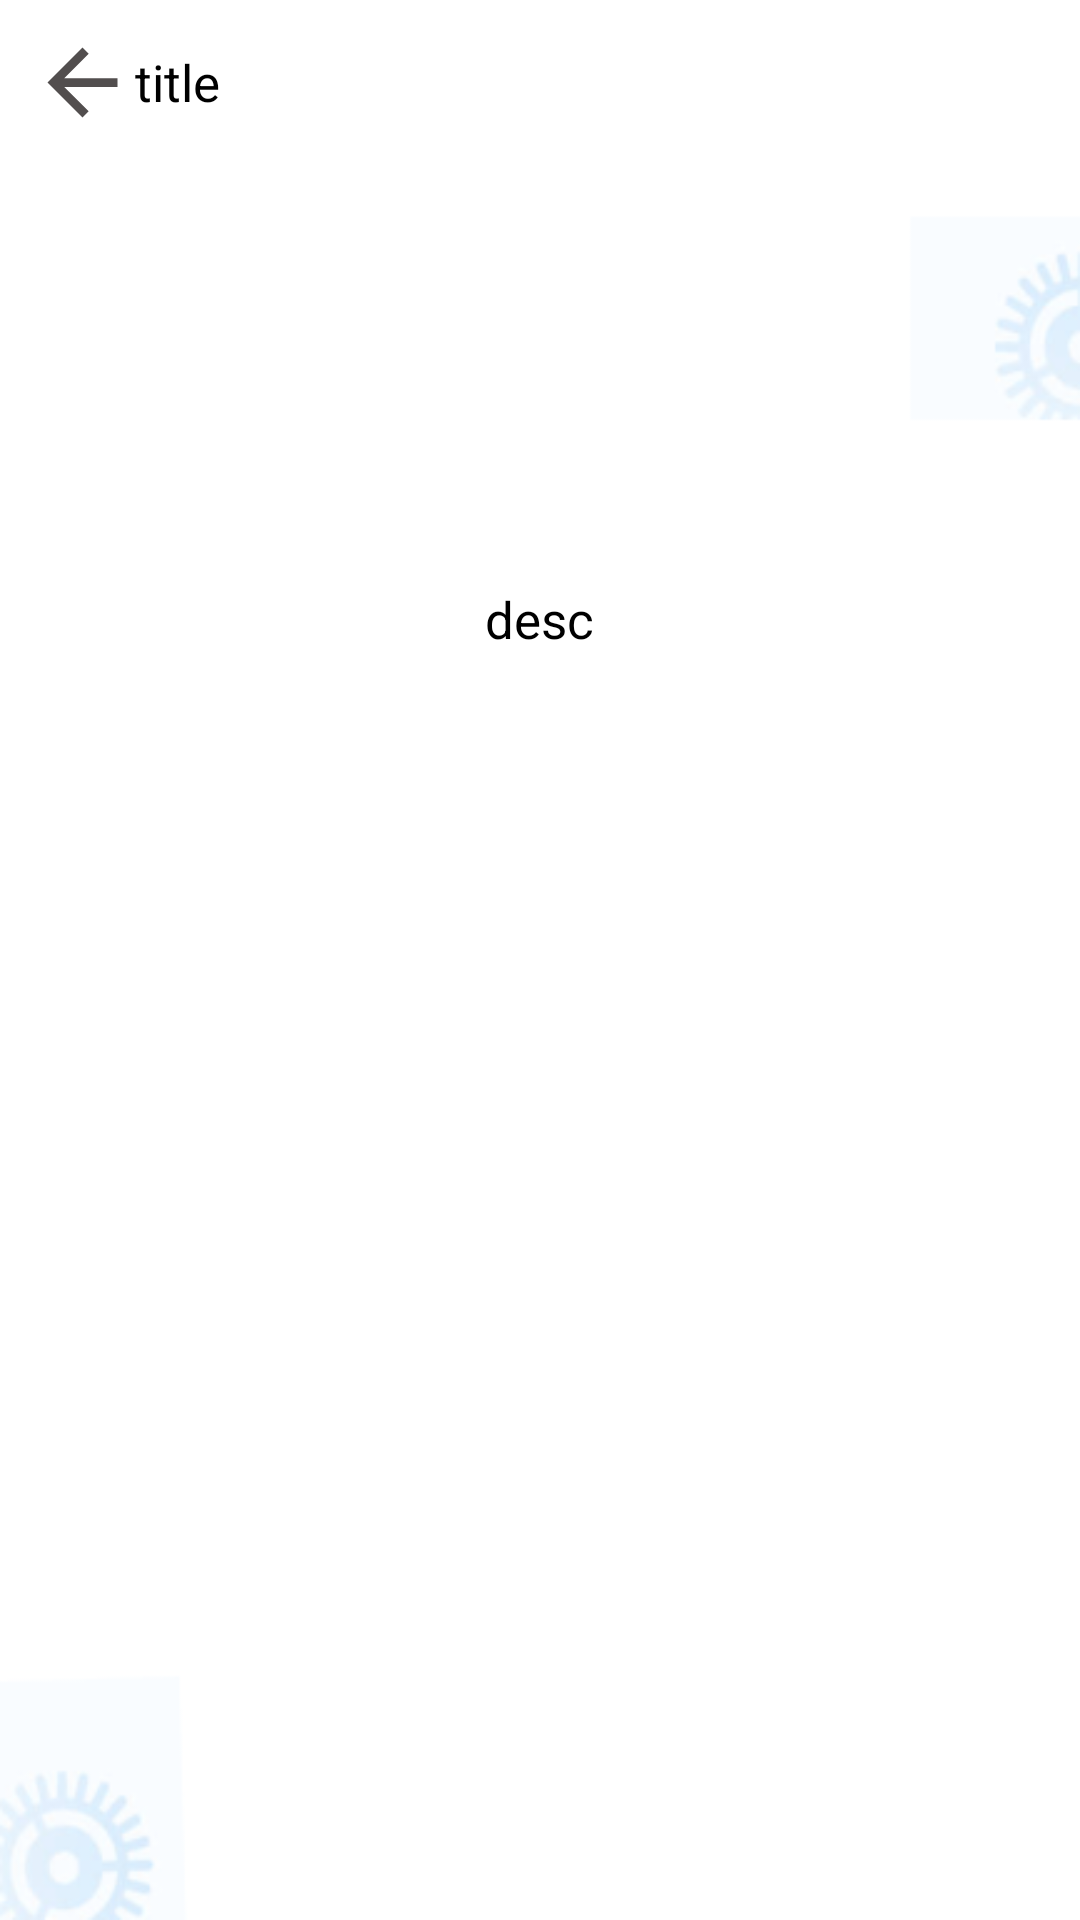

Screen size 1080 x 1920. Icon name, then its center in pixels as (x=x, y=y):
arrow back: (x=82, y=82)
